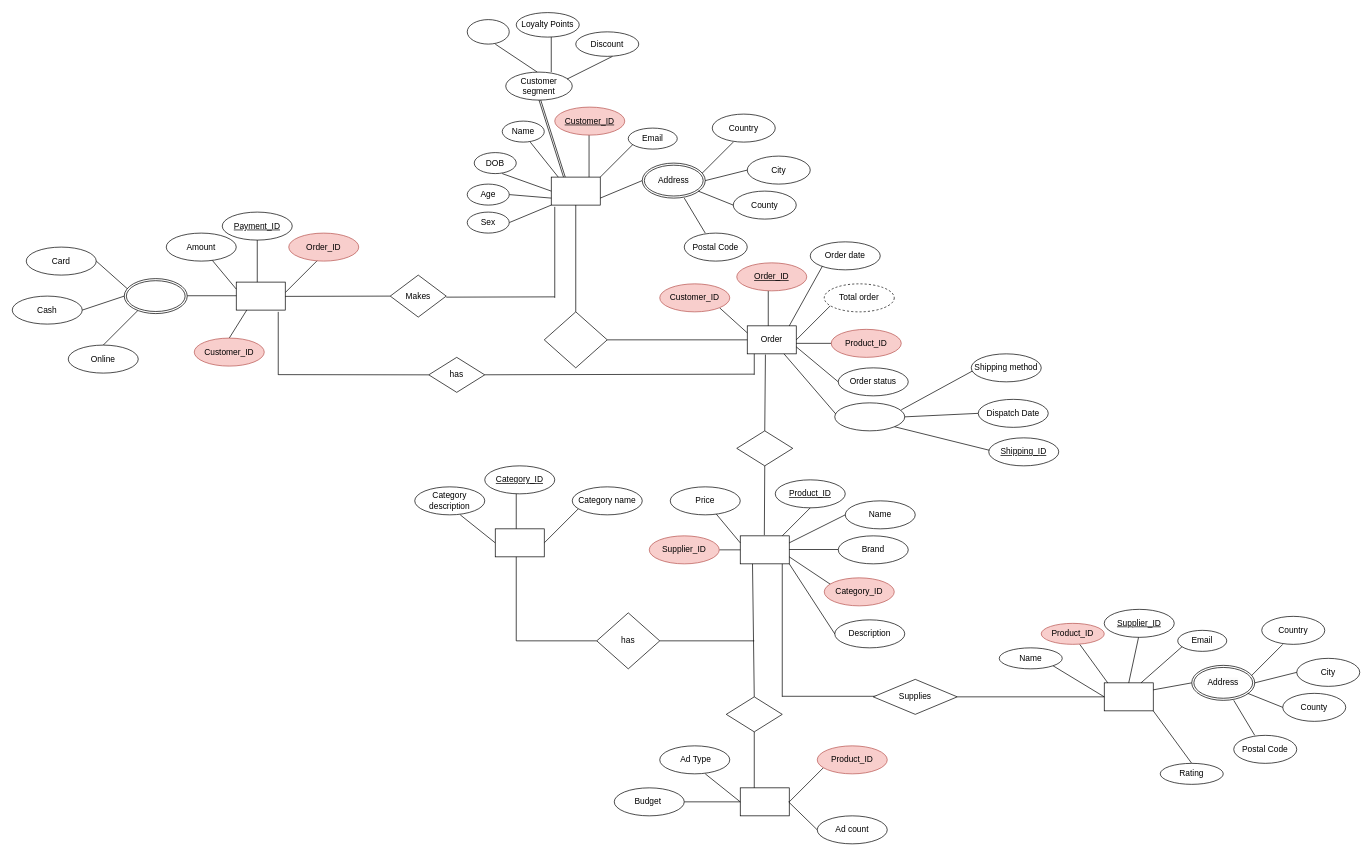
Image size: 1372x856. Some labels were removed from this diagram. Here are the shapes that lost their labels. From the top down, the box of each, then its label:
(467, 19, 509, 44): Tenure
(551, 176, 600, 205): Customer
(124, 278, 187, 314): Payment Method
(236, 281, 285, 310): Payment
(544, 311, 607, 368): Place
(834, 402, 905, 431): Shipping Details
(736, 430, 793, 466): Contains
(495, 528, 544, 557): Category
(740, 535, 789, 564): Product
(726, 696, 782, 732): Sponser
(1104, 682, 1153, 711): Supplier
(740, 787, 789, 816): Ads
